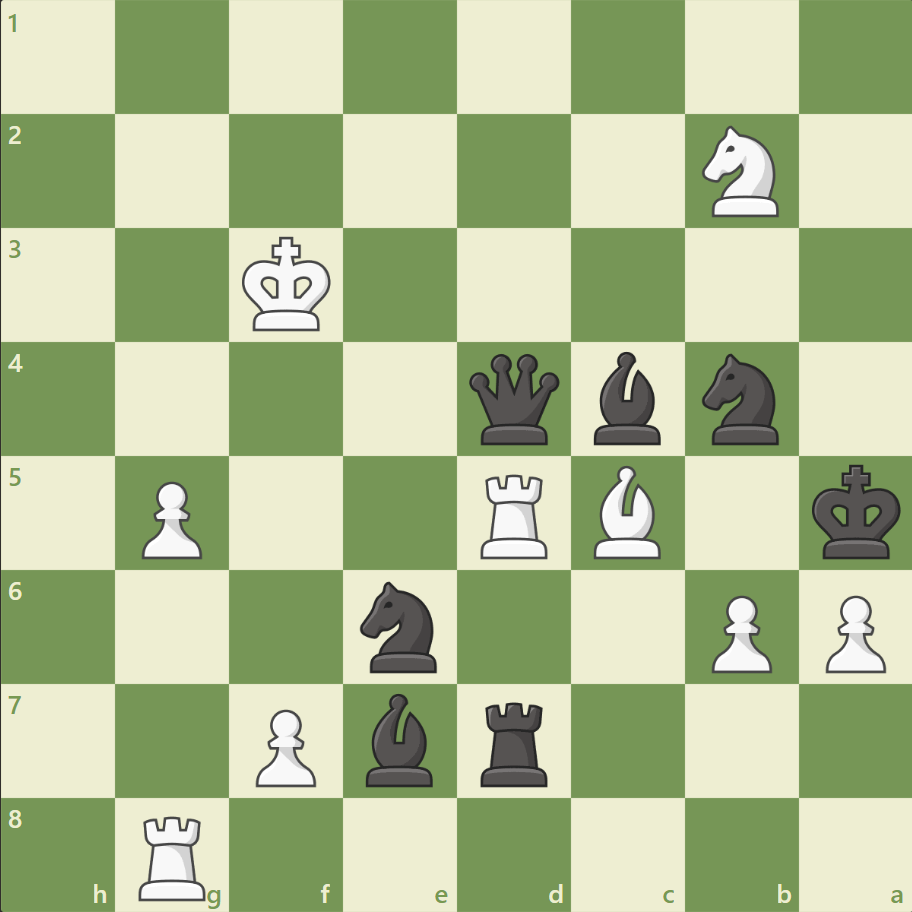B: (585, 460, 669, 563)
K: (238, 231, 338, 339)
N: (692, 121, 789, 223)
P: (247, 700, 322, 791), (701, 586, 776, 677), (133, 473, 208, 564), (815, 586, 889, 677)
R: (473, 466, 556, 563), (133, 806, 215, 904)
b: (358, 687, 442, 790), (585, 347, 669, 449)
k: (806, 458, 906, 566)
n: (351, 575, 449, 677), (692, 348, 789, 450)
q: (464, 349, 563, 449)
r: (473, 693, 556, 790)
